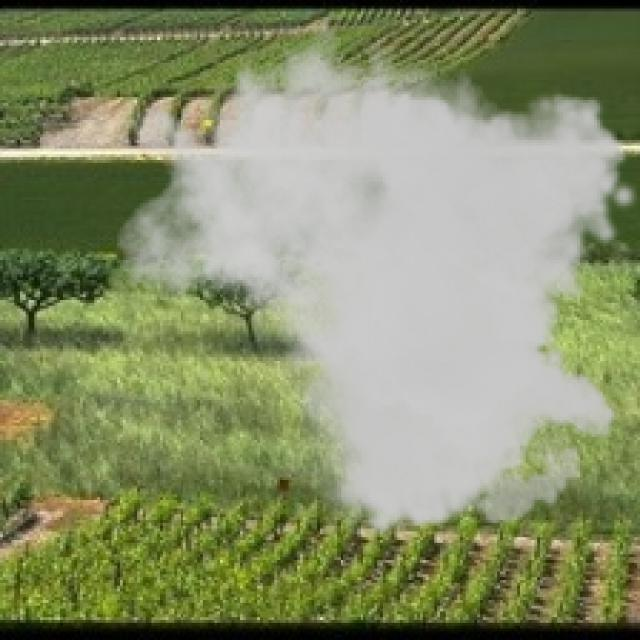smoke: (114, 0, 637, 543)
